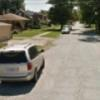cars: (0, 44, 46, 84), (62, 27, 70, 34)
